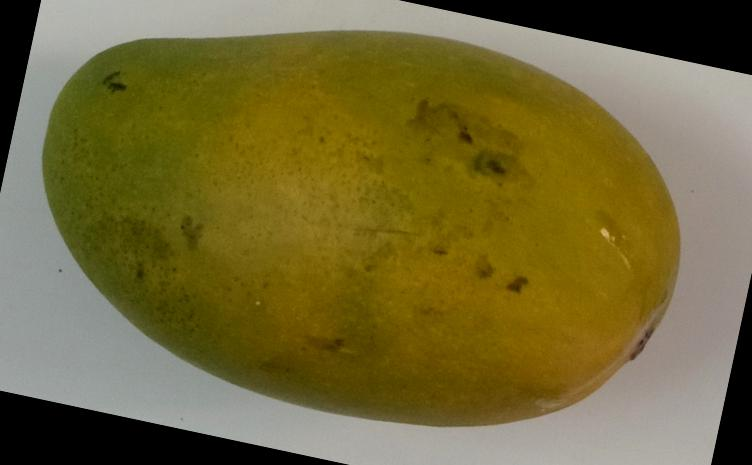Mango Ripe: (2, 0, 697, 424)
